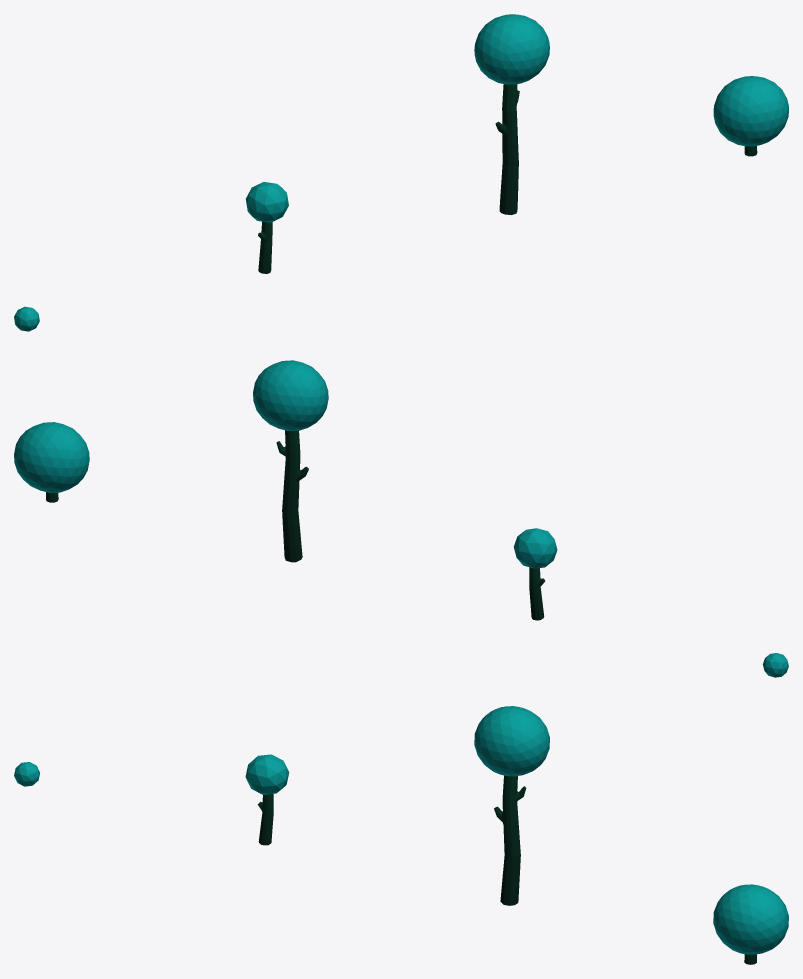
3 renders of one model, top to bottom at view 1: azimuth 30°, elevation 25°; view 2: azimuth 150°, elevation 25°; view 3: azimuth 330°, elevation 25°, orthographic.
Parts seen in each view (by area): view 1: S_3, S_4, S_2; view 2: S_3, S_4, S_2; view 3: S_3, S_4, S_2, S_1.
Part boxes in pixels (x1,y1,x2,y2): S_3: [474, 14, 549, 214]; S_4: [713, 76, 788, 156]; S_2: [246, 182, 288, 273]; S_3: [253, 360, 328, 562]; S_4: [14, 422, 89, 502]; S_2: [513, 528, 557, 620]; S_3: [474, 706, 549, 905]; S_4: [713, 884, 788, 964]; S_2: [245, 754, 289, 845]; S_1: [14, 762, 39, 786].
Size of the model in its own units: 320 by 77.31 by 25.62.
